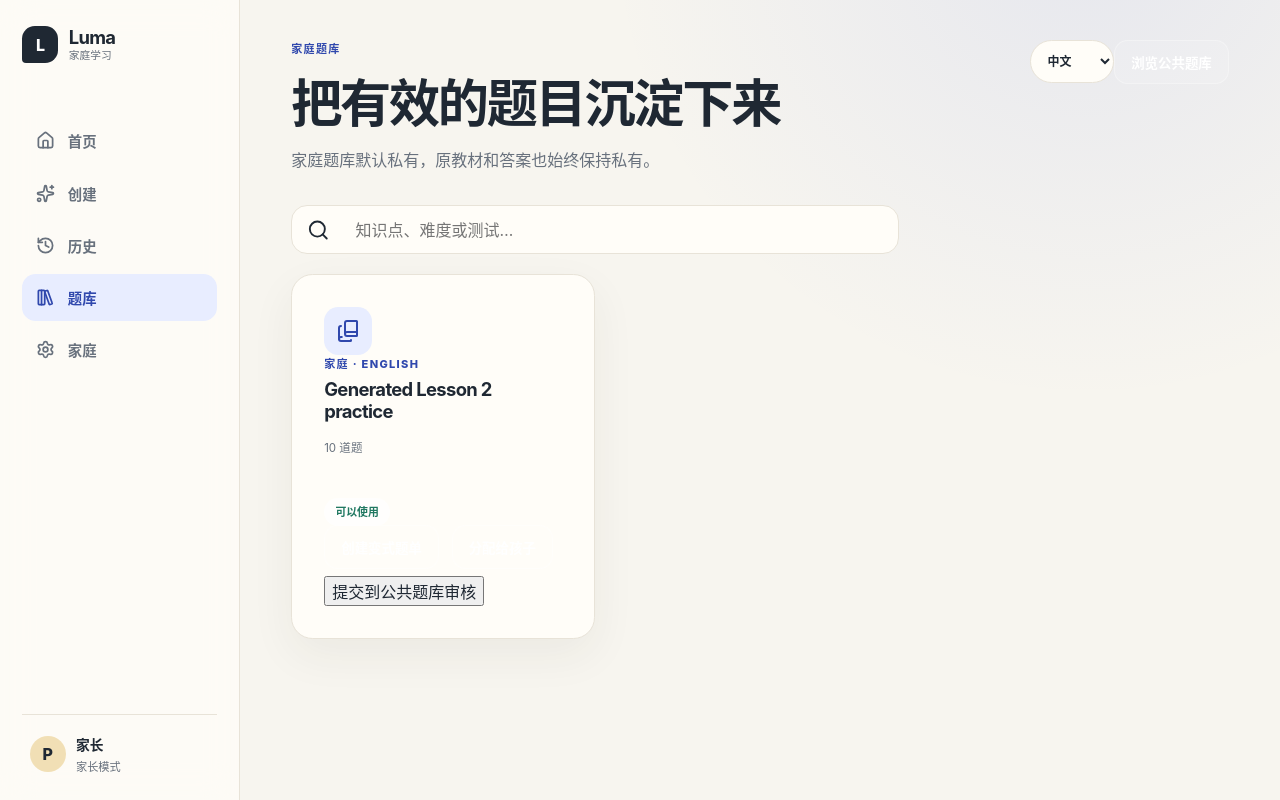
Test: LibraryPage › requires rights and privacy confirmations before submitting a set for public review
Click the button "提交到公共题库审核" at (404, 591), box [324,576,484,606]
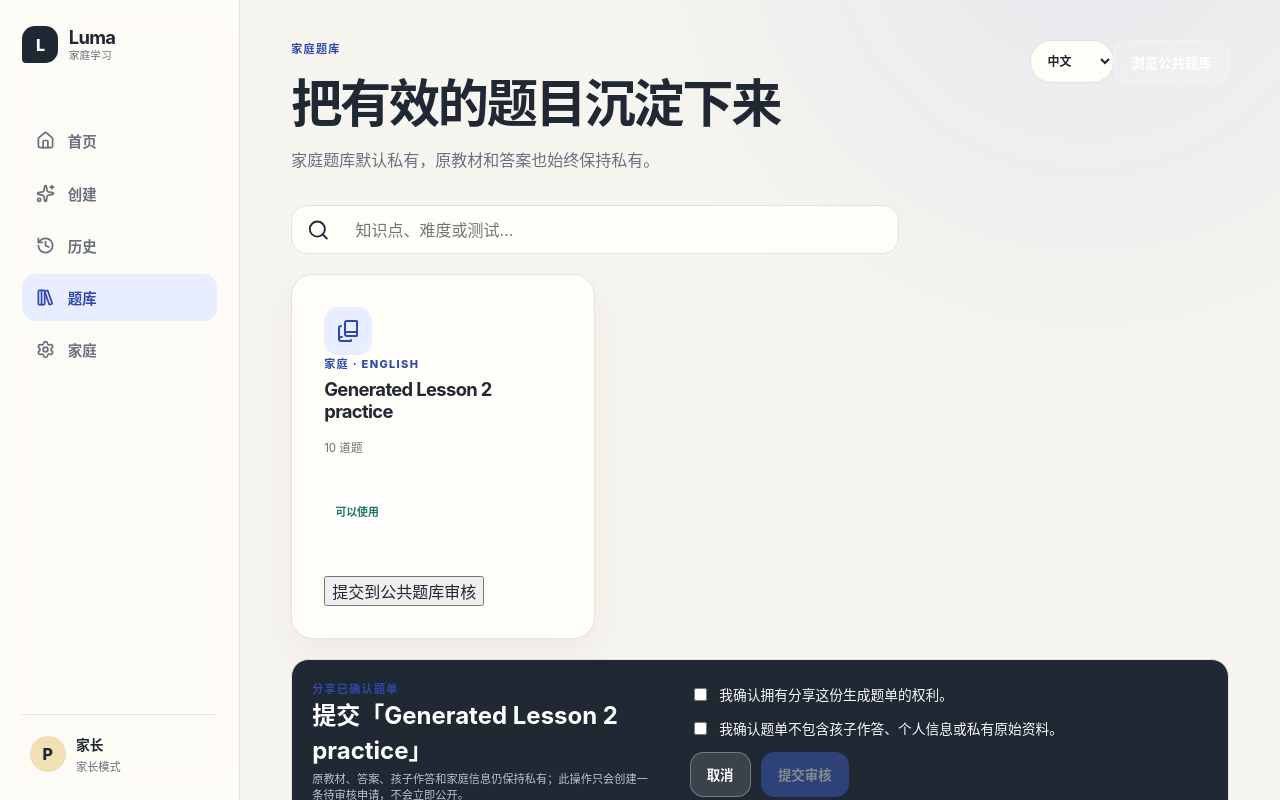
Now the heading "提交「Generated Lesson 2 practice」" is shown, box [312,696,658,766]
Now the button "提交审核" is disabled, box [761,752,849,796]
Click the checkbox labelled "我确认拥有分享这份生成题单的权利。" at (700, 695), box [694,688,707,701]
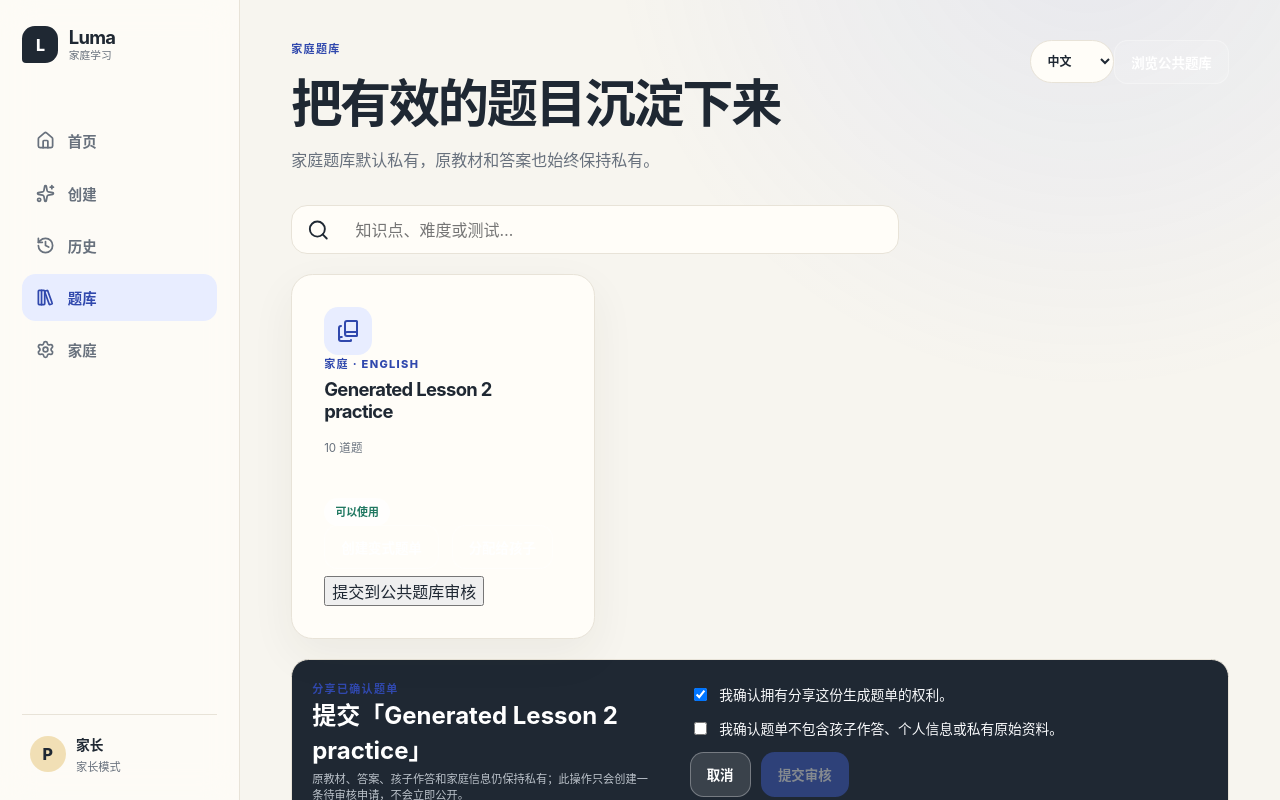
Click the checkbox labelled "我确认题单不包含孩子作答、个人信息或私有原始资料。" at (700, 728), box [694,722,707,735]
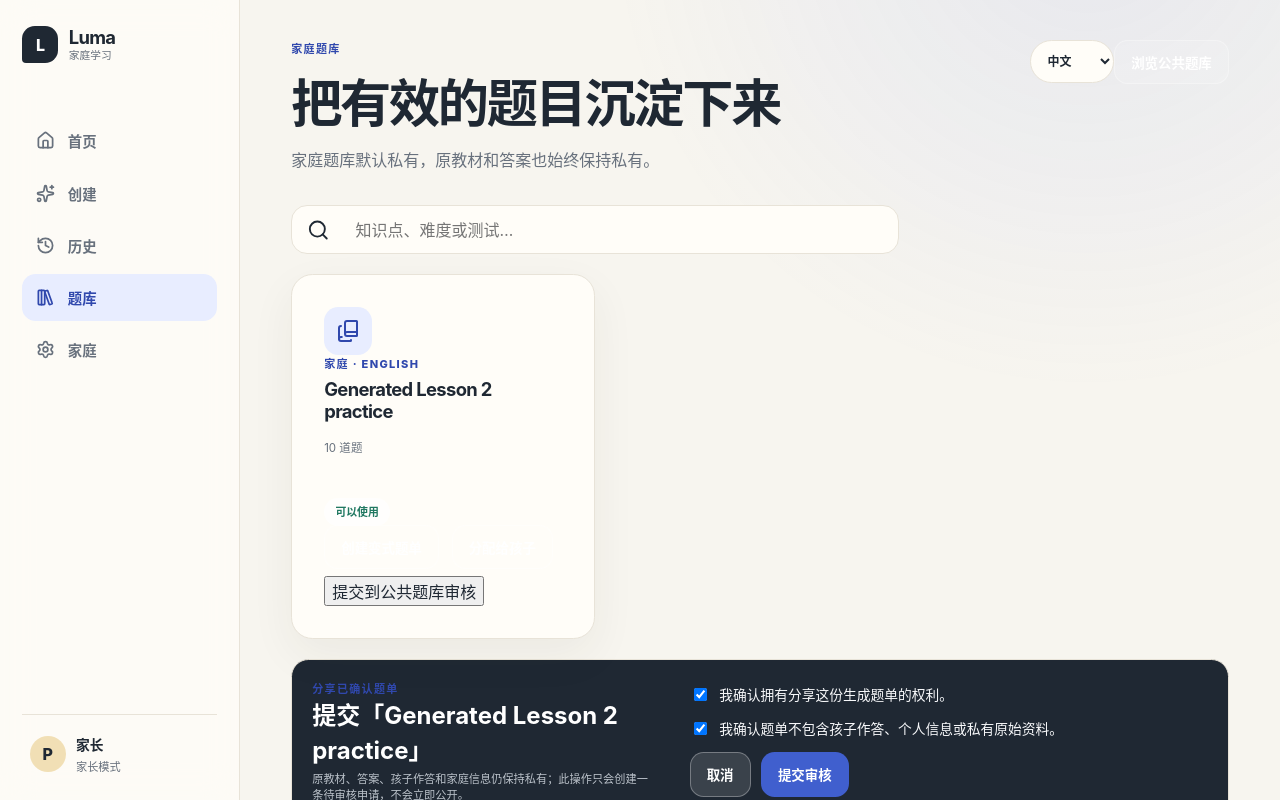
Click the button "提交审核" at (805, 774), box [761,752,849,796]
(page scrolled)
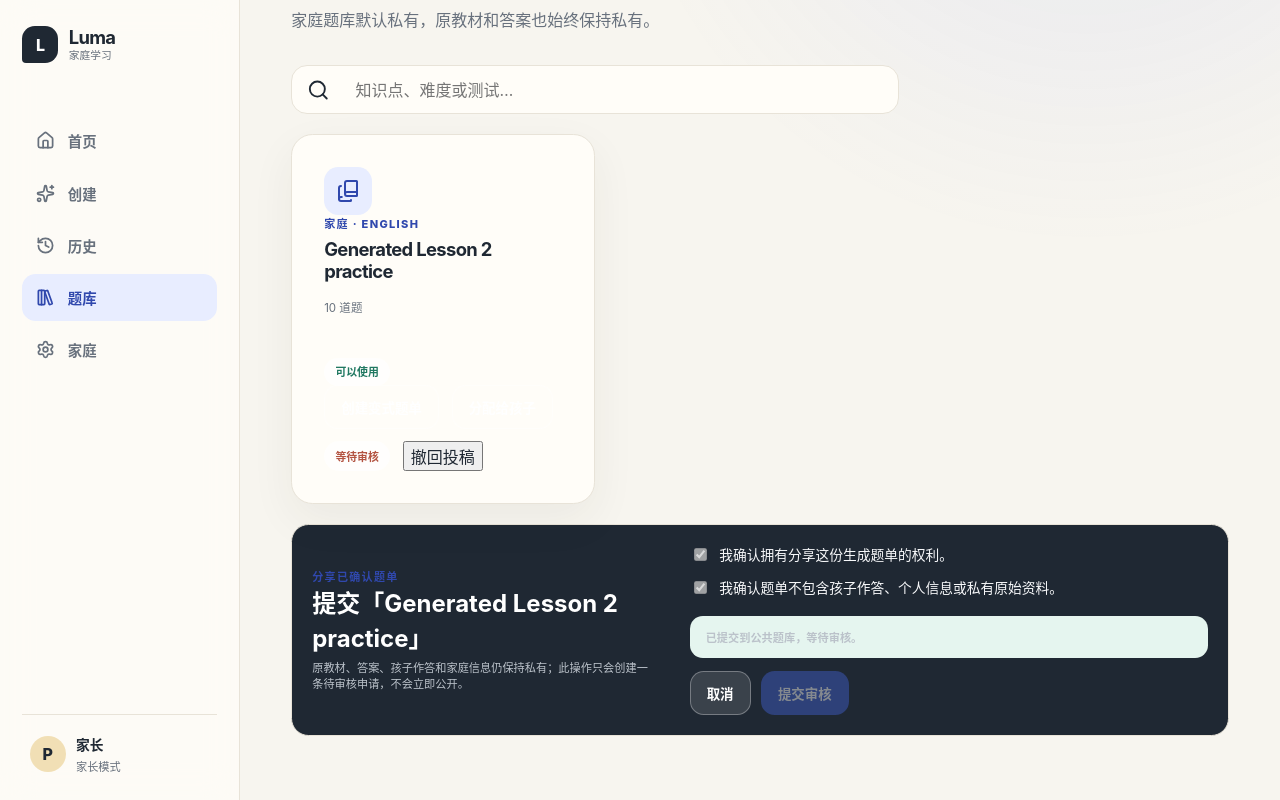
Now the text "已提交到公共题库，等待审核。" is shown, box [690,616,1208,658]
Now the button "提交审核" is disabled, box [761,671,849,715]
